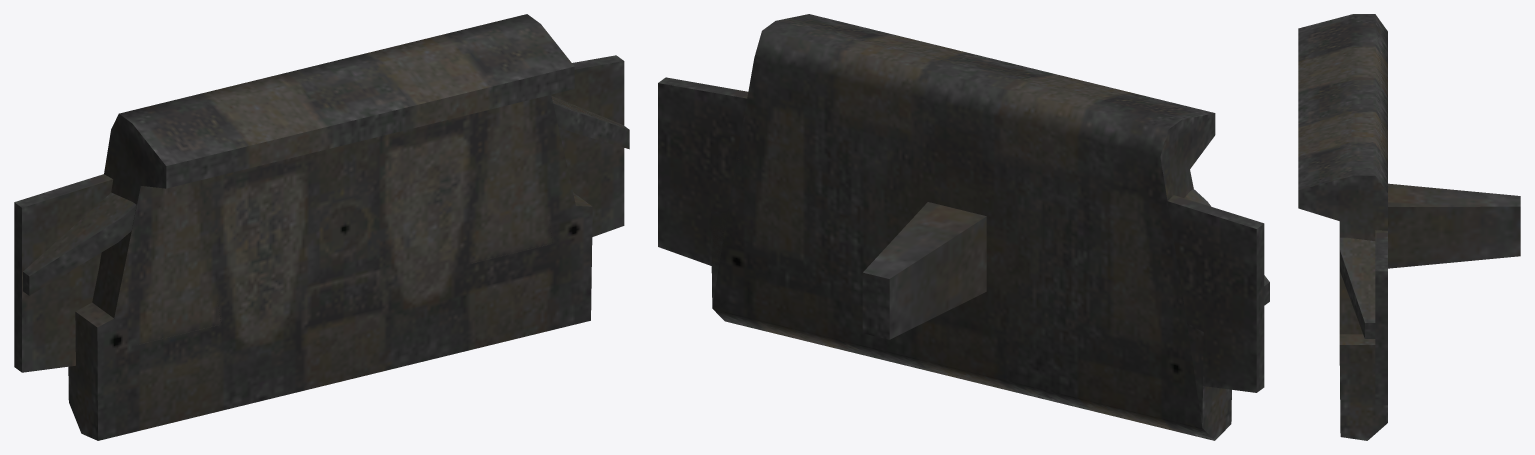
3 renders of one model, left to right at view 1: azimuth 30°, elevation 25°; view 2: azimuth 150°, elevation 25°; view 3: azimuth 270°, elevation 25°, orthographic. The views are drawn at different scales.
Parts seen in each view (by area): view 1: set_0_group_0; view 2: set_0_group_0; view 3: set_0_group_0.
Boxes of the visible parts, left/top/right/bottom form: set_0_group_0: left=14, top=14, right=629, bottom=440; set_0_group_0: left=658, top=14, right=1269, bottom=440; set_0_group_0: left=1298, top=14, right=1520, bottom=440.
Size of the model in its own units: 0.3795 by 0.1844 by 0.1494.
Materials: 1 (1 with a texture image).
